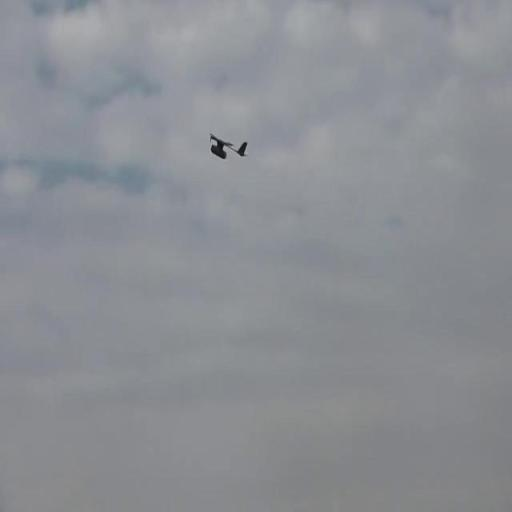uav: (208, 131, 250, 162)
